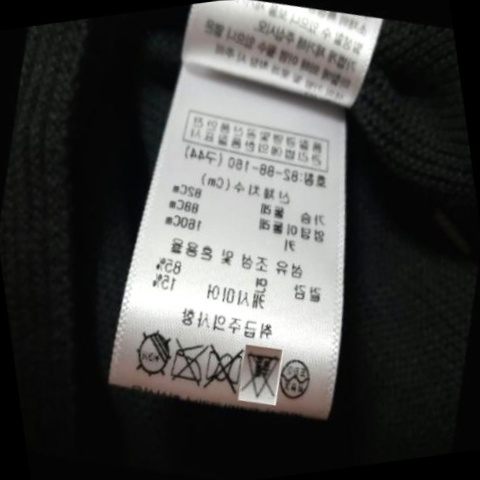DN_iron: (165, 338, 207, 389)
DN_wring: (201, 341, 243, 394)
dry_clean_petrol_only: (276, 349, 315, 404)
dry_flat_in_shade: (130, 323, 178, 383)
non_chlorine_bleach: (241, 345, 282, 401)
